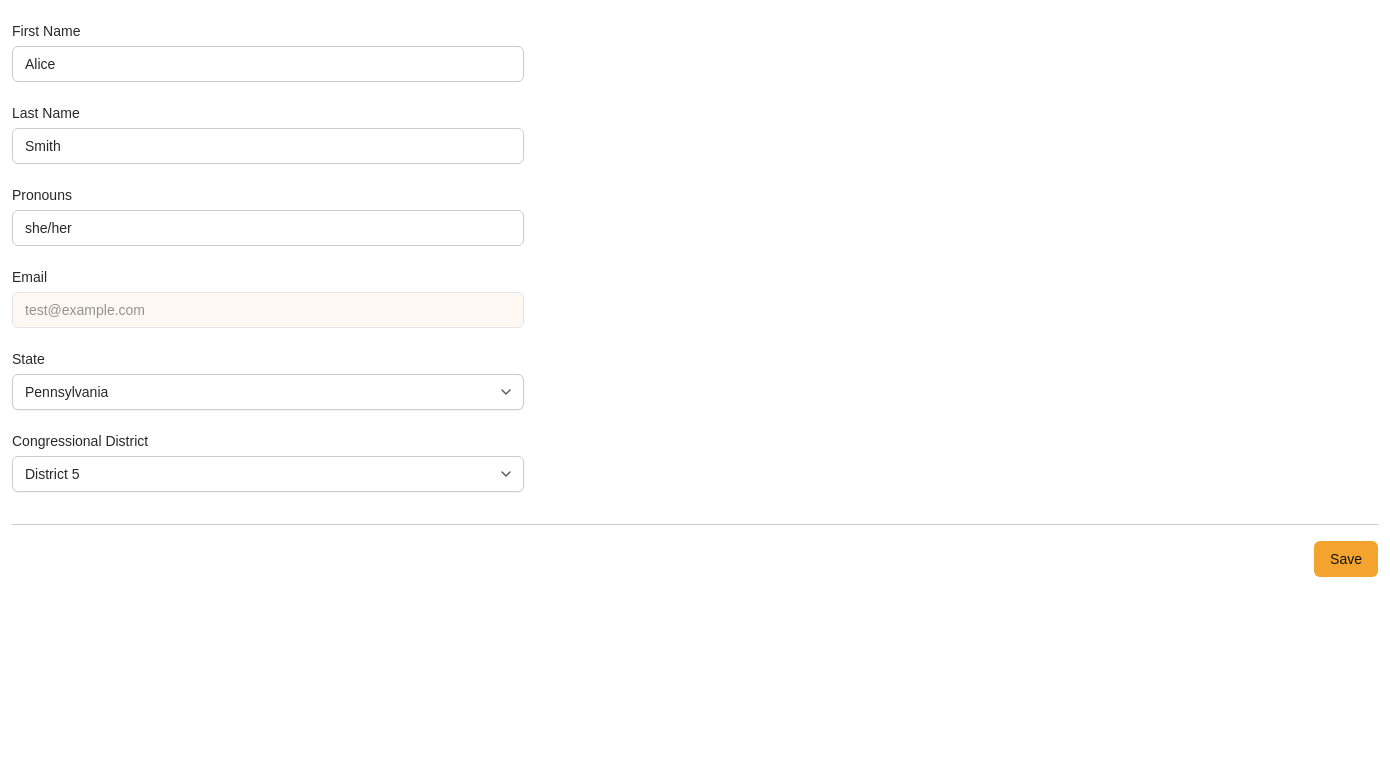
Scenario: ProfileForm › district resets when state changes
expect the dropdown labelled "Congressional District" shows "District 5": met, box [12,456,524,492]
Select "Massachusetts" in the dropdown labelled "State" at (268,392), box [12,374,524,410]
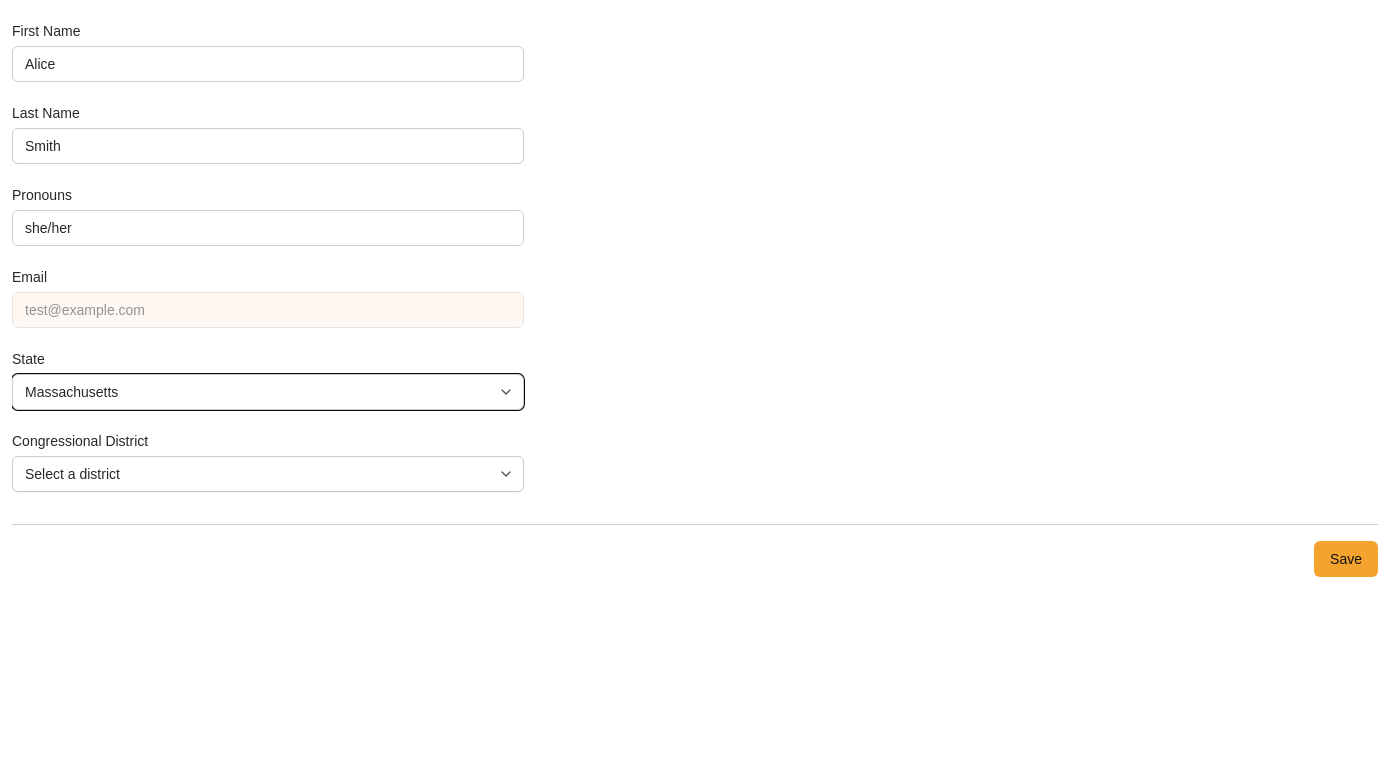
expect the dropdown labelled "Congressional District" shows "Select a district": met, box [12,456,524,492]
